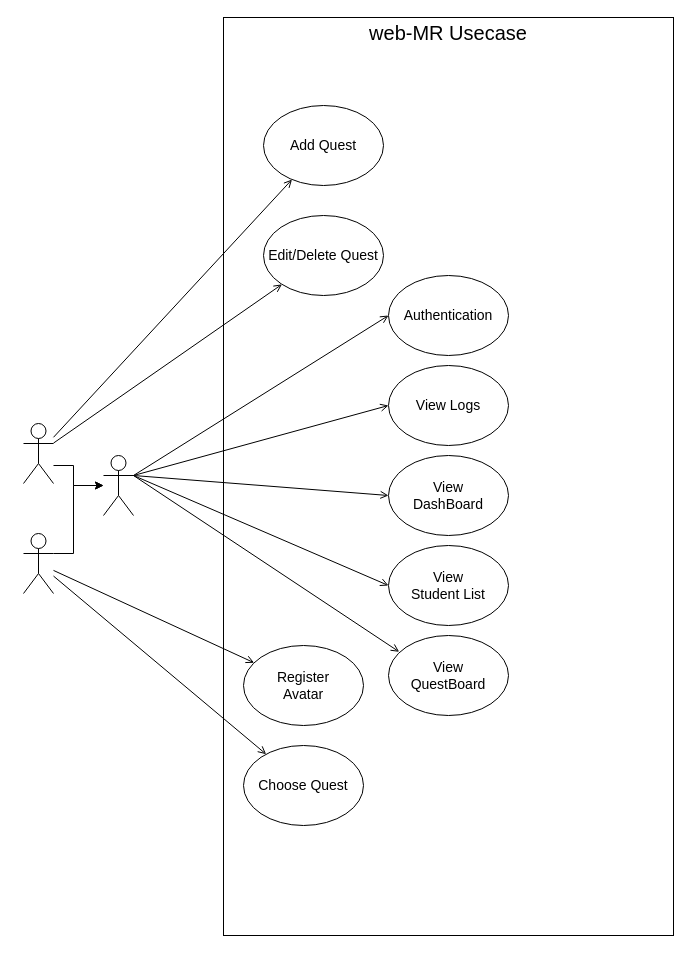
Image size: 691x953. Some labels were removed from this diagram. The centre of each missing label's shape, as x and y in pixels:
"Student" goes at point 38,563.
"Teacher" goes at point 38,453.
"User" goes at point 118,485.
